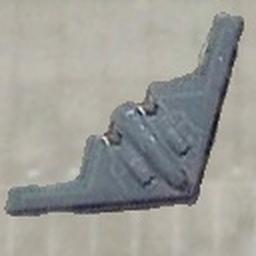Airplane: (3, 9, 245, 217)
